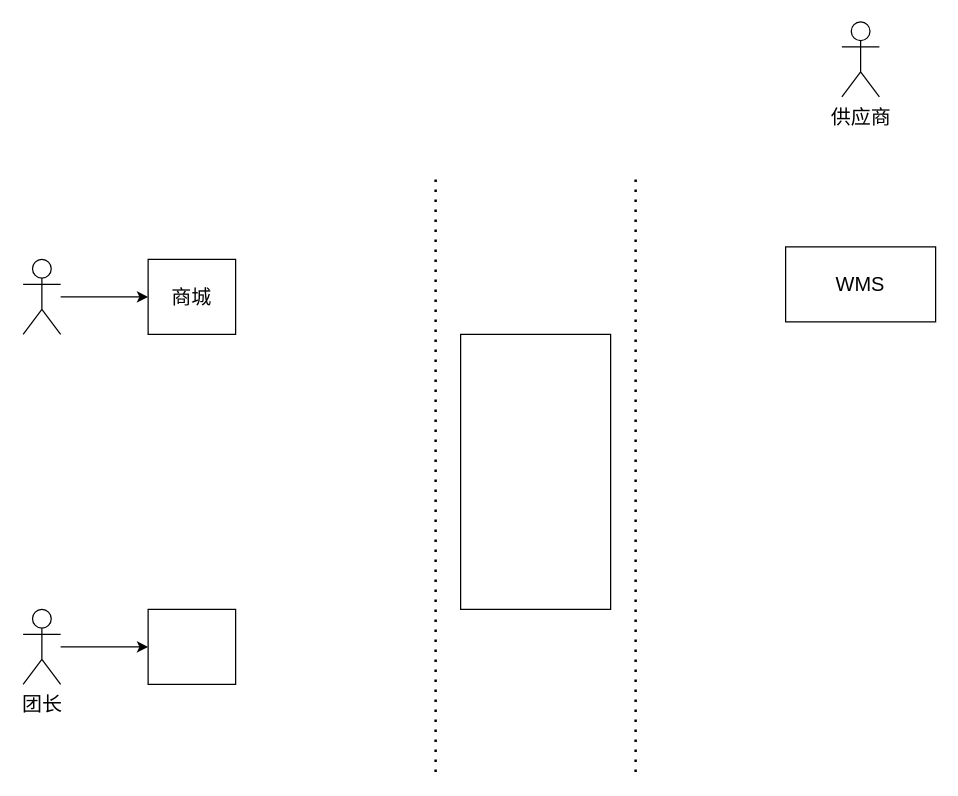
The diagram is 958 pixels wide and 796 high, and some of its shapes have lost their labels. The box of each missing label's shape, as (x1, y1, x2, y2) in pixels:
ofc: (459, 333, 611, 609)
用户: (22, 258, 61, 334)
